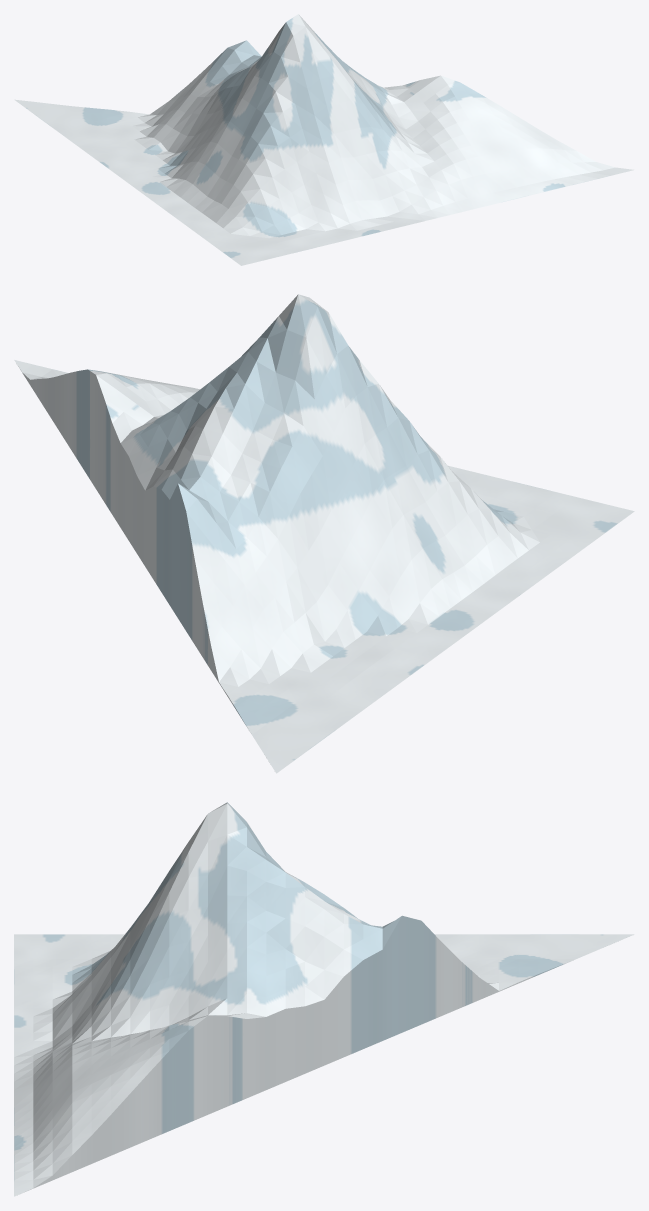
The model's file is Snow_Mountains_05_NW.obj.
3 views of the same model, one above another, from view 1: azimuth 30°, elevation 25°; view 2: azimuth 150°, elevation 25°; view 3: azimuth 270°, elevation 25° (orthographic). The views are drawn at different scales.
Bounding box in the file's own units: 10 × 3.93 × 10.
1 material, 1 textured.
